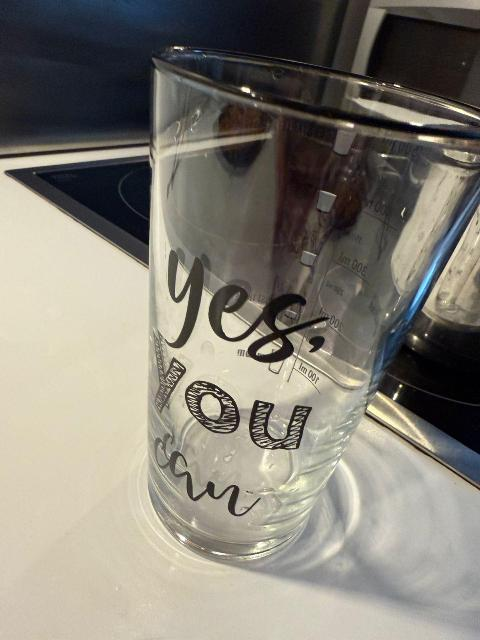Cam: (152, 44, 480, 564)
